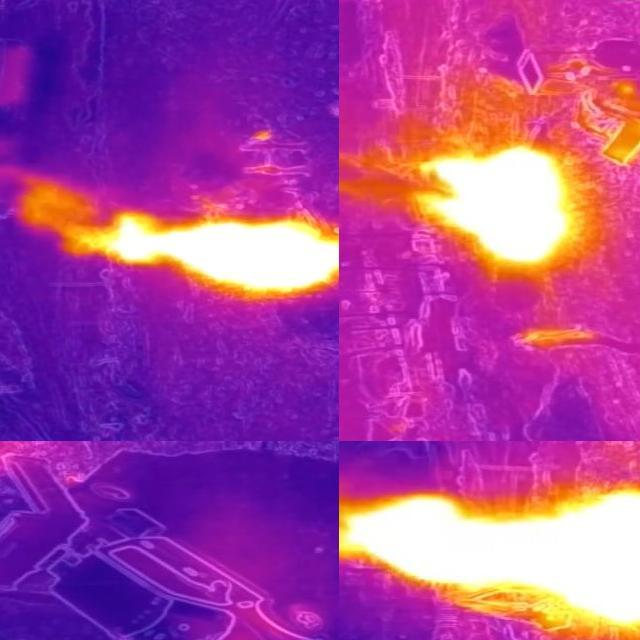fire: (340, 488, 640, 628), (52, 210, 340, 298), (419, 146, 572, 266)
